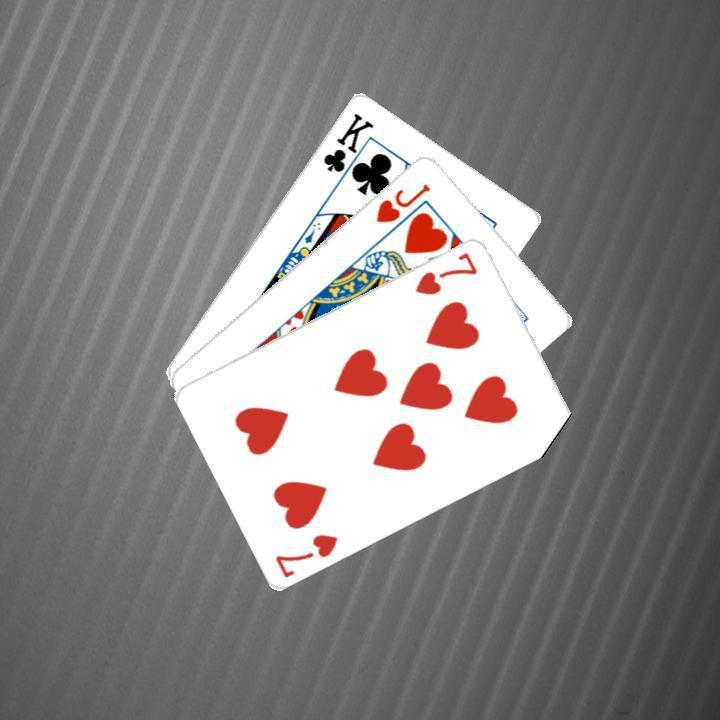7: (270, 529, 340, 580), (410, 247, 480, 297)
J: (371, 178, 433, 225)
K: (318, 108, 376, 187)
